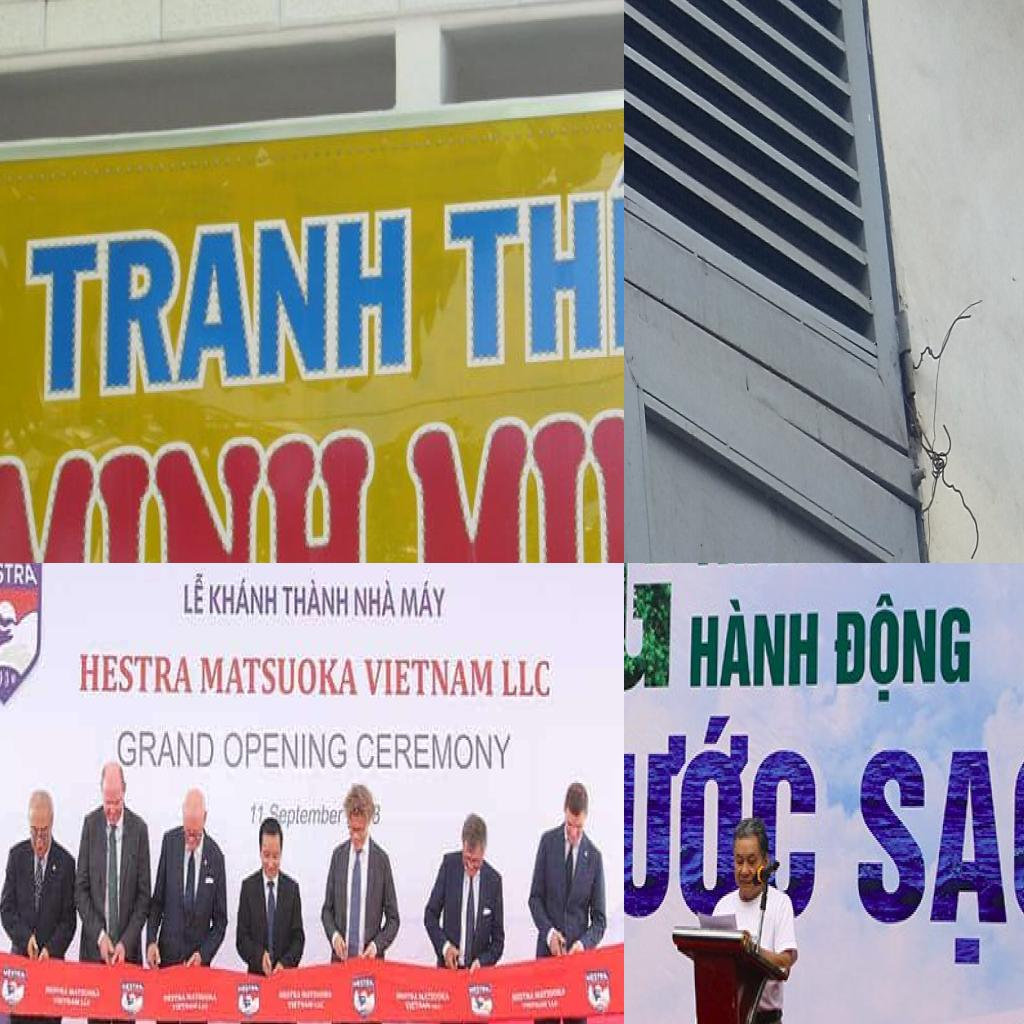text: (25, 203, 415, 405), (0, 427, 379, 563), (442, 131, 624, 372), (624, 711, 821, 928), (848, 735, 1024, 968), (832, 590, 975, 708), (685, 590, 823, 692), (198, 648, 364, 700), (354, 728, 516, 778), (362, 652, 496, 702), (219, 724, 350, 774), (78, 647, 196, 697), (113, 718, 216, 774), (208, 577, 280, 620), (283, 577, 351, 622), (500, 651, 556, 704), (270, 797, 346, 828), (352, 577, 398, 622), (400, 579, 448, 620), (183, 568, 208, 620), (0, 563, 39, 588), (250, 799, 267, 828), (372, 801, 384, 829)
